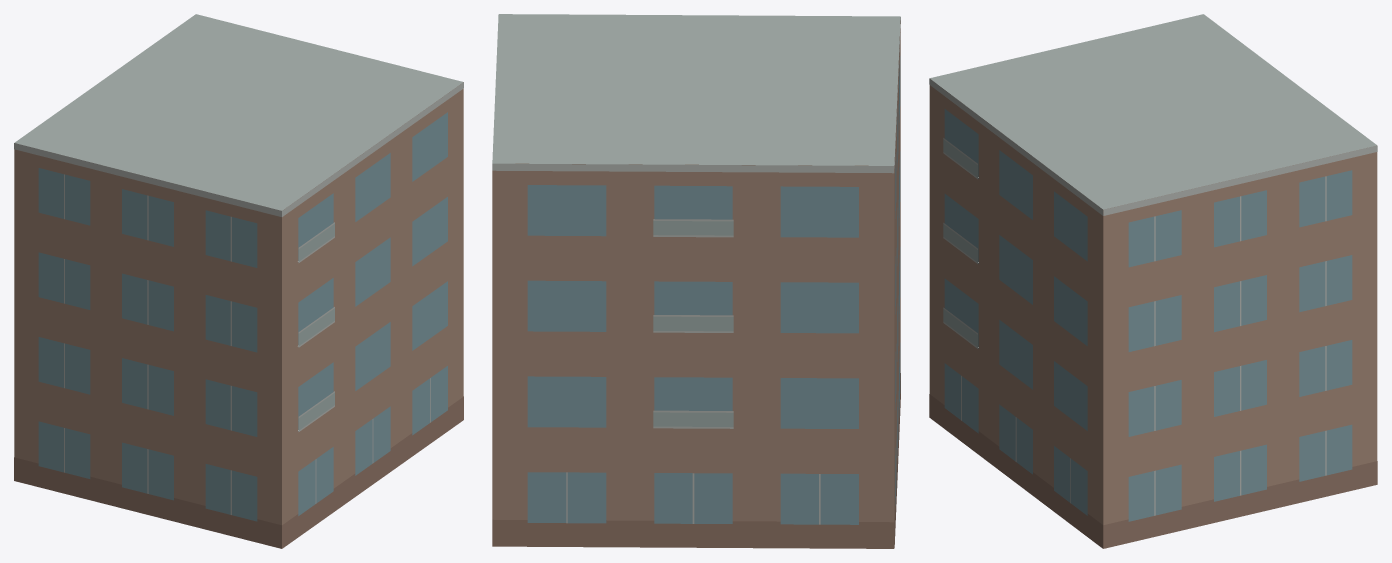
The model's file is survey-upis-32612907.glb.
The picture shows the model from 3 angles, left to right: view 1: azimuth 30°, elevation 25°; view 2: azimuth 150°, elevation 25°; view 3: azimuth 270°, elevation 25°; orthographic projection. The views are drawn at different scales.
Parts seen in each view (by area): view 1: survey-upis-32612907.tmp; view 2: survey-upis-32612907.tmp; view 3: survey-upis-32612907.tmp.
Part boxes in pixels (<box>): survey-upis-32612907.tmp: <box>14,14,463,548</box>; survey-upis-32612907.tmp: <box>492,14,900,548</box>; survey-upis-32612907.tmp: <box>929,14,1377,548</box>.
Size of the model in its own units: 15.99 by 12.92 by 15.47.
